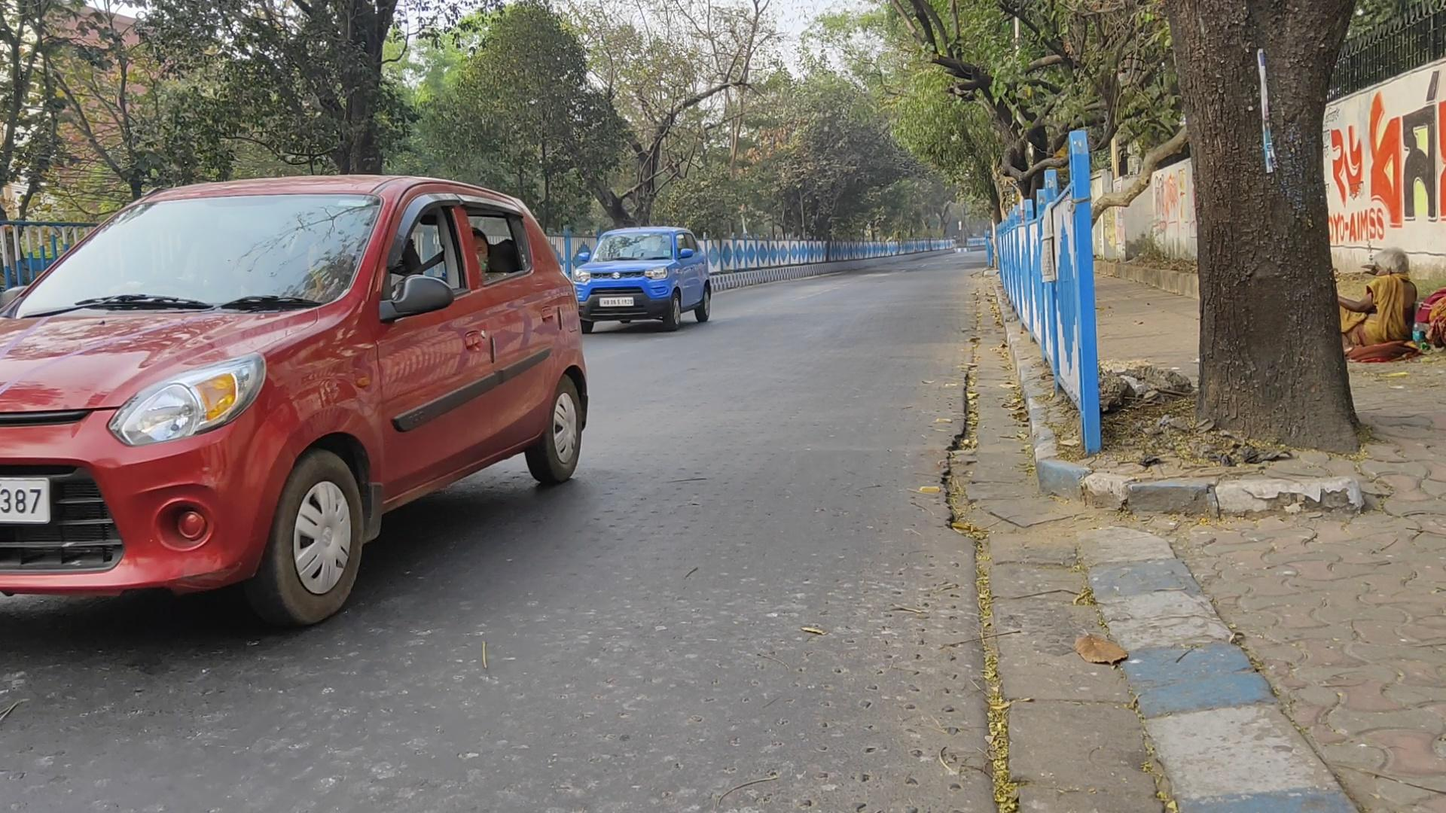car: (1, 176, 590, 631), (575, 226, 714, 333)
